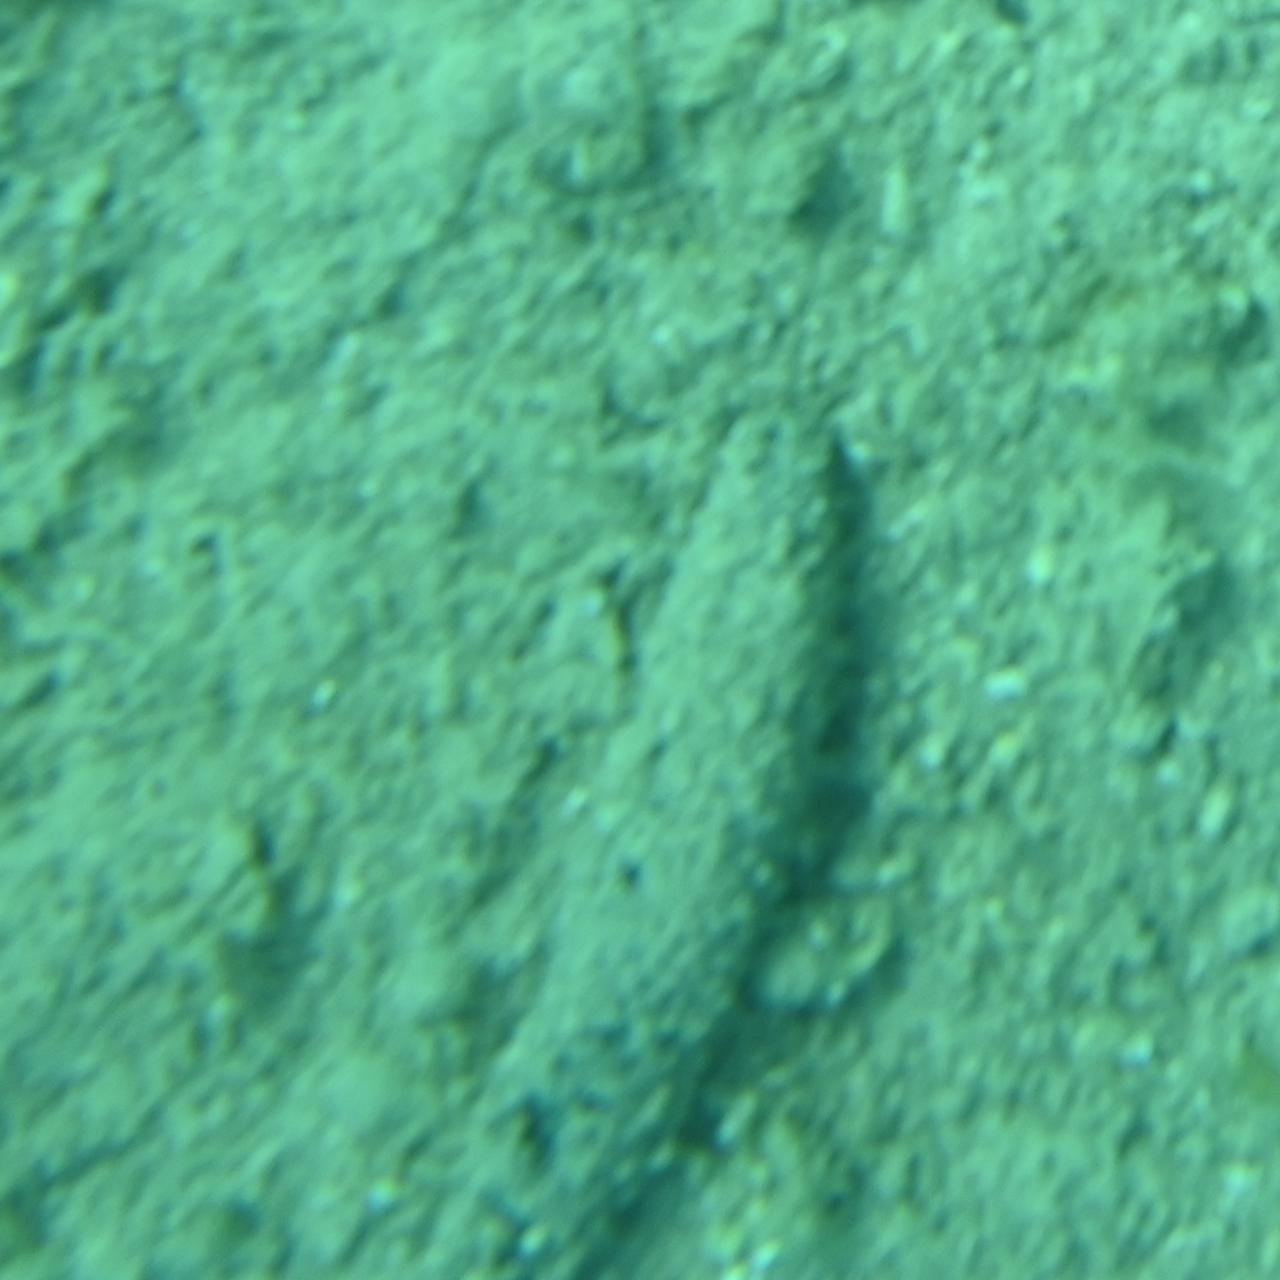Holothuria tubulosa: (384, 387, 896, 1279)
